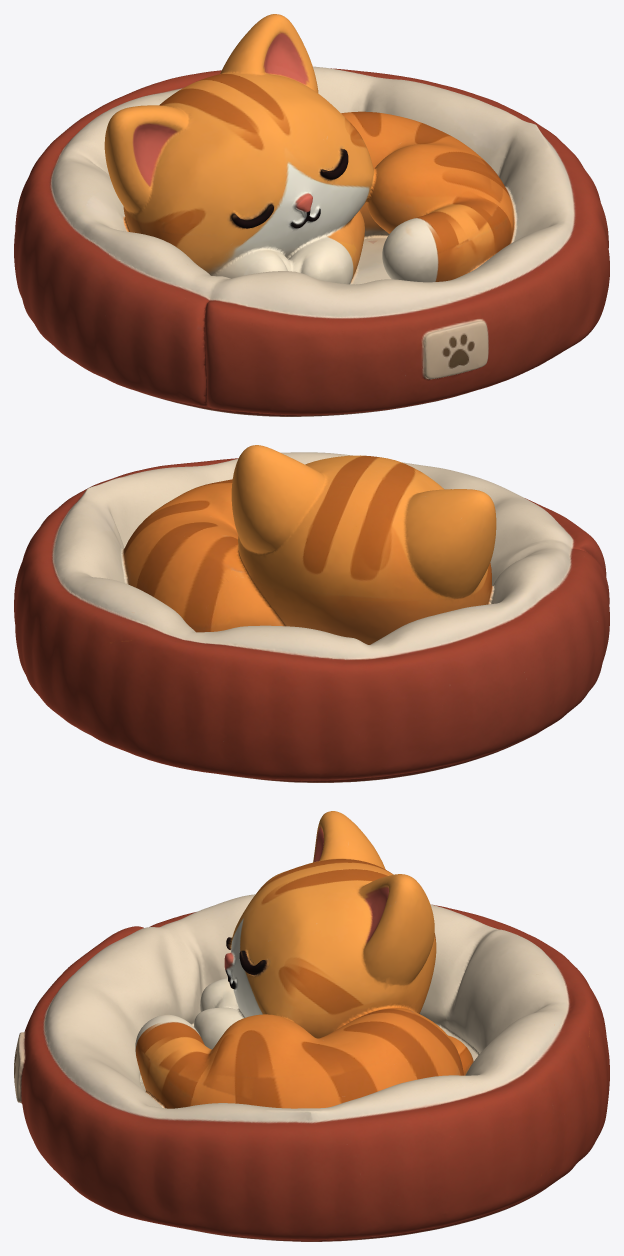
Rendered from catnap-orange-original.glb.
3 views of the same model, one above another, from view 1: azimuth 30°, elevation 25°; view 2: azimuth 150°, elevation 25°; view 3: azimuth 270°, elevation 25° (orthographic).
Bounding box in the file's own units: 1.9 × 0.8857 × 1.89.
Materials: 1 (1 with a texture image).
